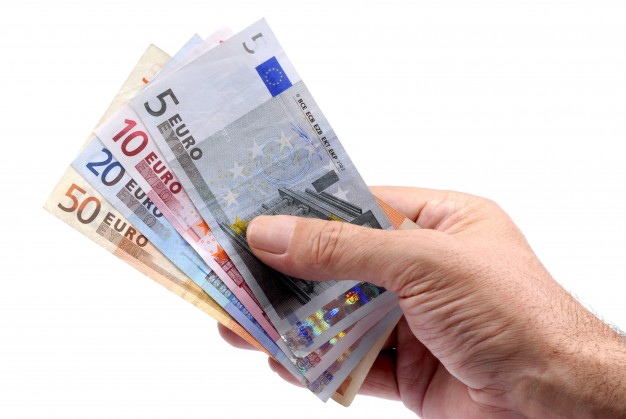billete: (40, 14, 430, 406)
